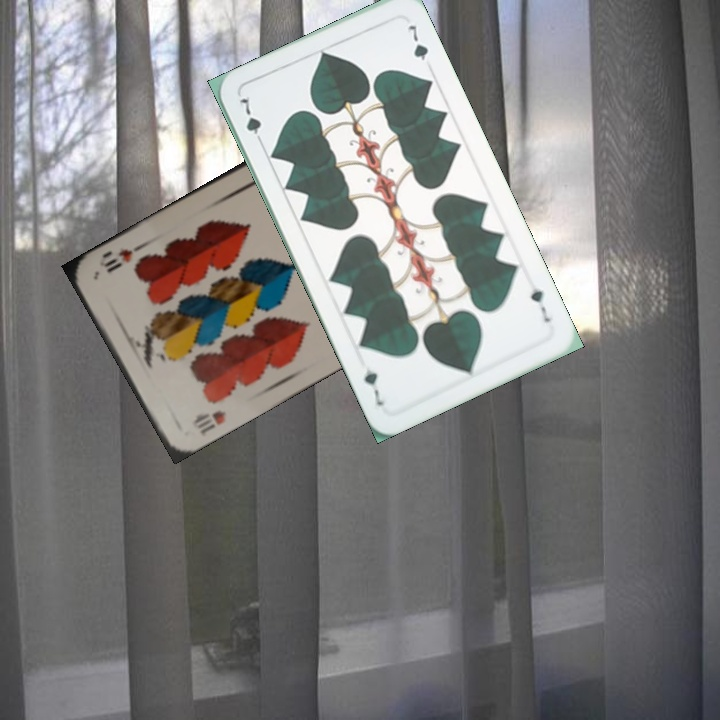G7: (234, 94, 267, 148), (526, 277, 553, 325)
H10: (188, 406, 229, 438)
